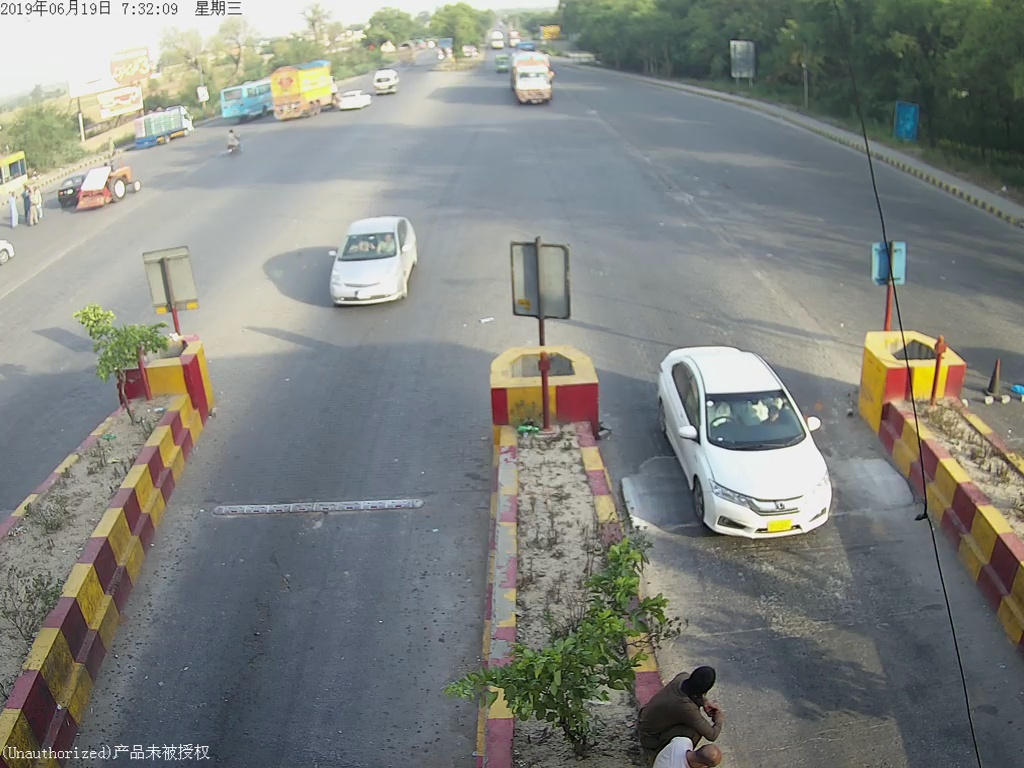Cat-1: (653, 342, 851, 557), (314, 205, 431, 310)
